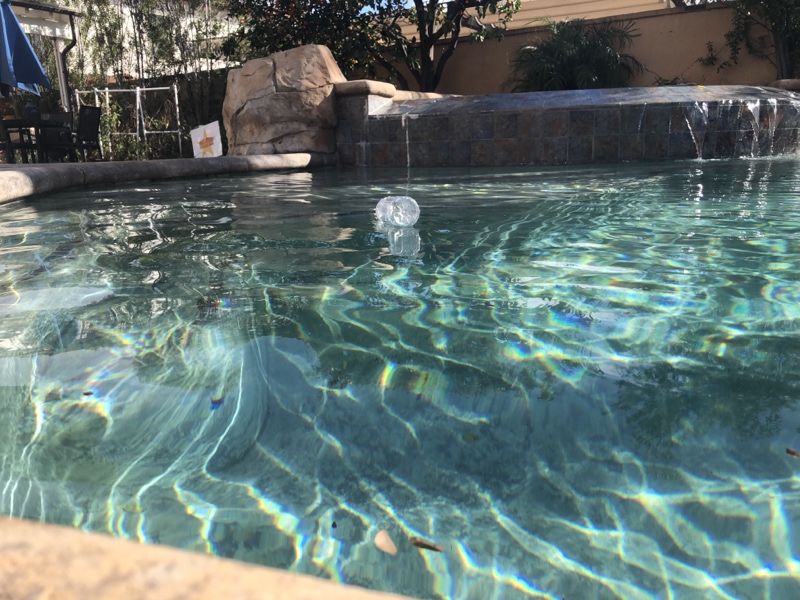Plastic Bottle: (375, 192, 424, 230)
